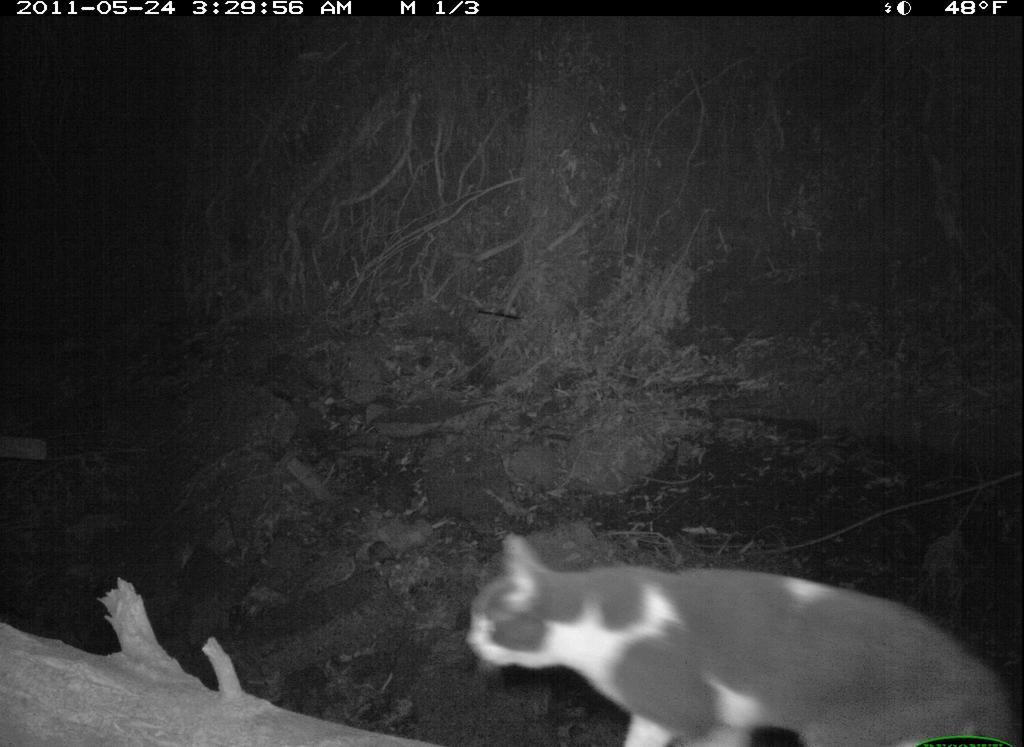cat: (461, 527, 1023, 747)
